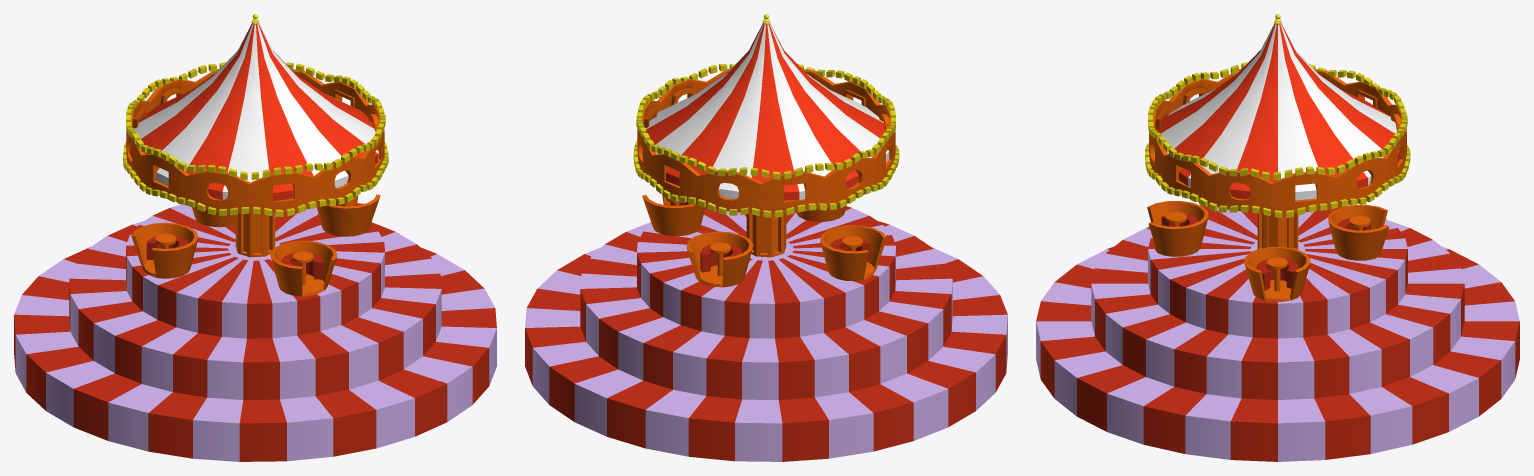
Rendered from Calesita.fbx.
3 renders of one model, left to right at view 1: azimuth 30°, elevation 25°; view 2: azimuth 150°, elevation 25°; view 3: azimuth 270°, elevation 25°, orthographic.
Visible parts, largest first — view 1: Cylinder.014; view 2: Cylinder.014; view 3: Cylinder.014.
Part boxes in pixels (x1,y1,x2,y2): Cylinder.014: (14, 14, 496, 461); Cylinder.014: (525, 14, 1007, 461); Cylinder.014: (1036, 14, 1519, 461).
Size of the model in its own units: 1358 by 1071 by 1358.
Materials: 8 (6 with a texture image).
